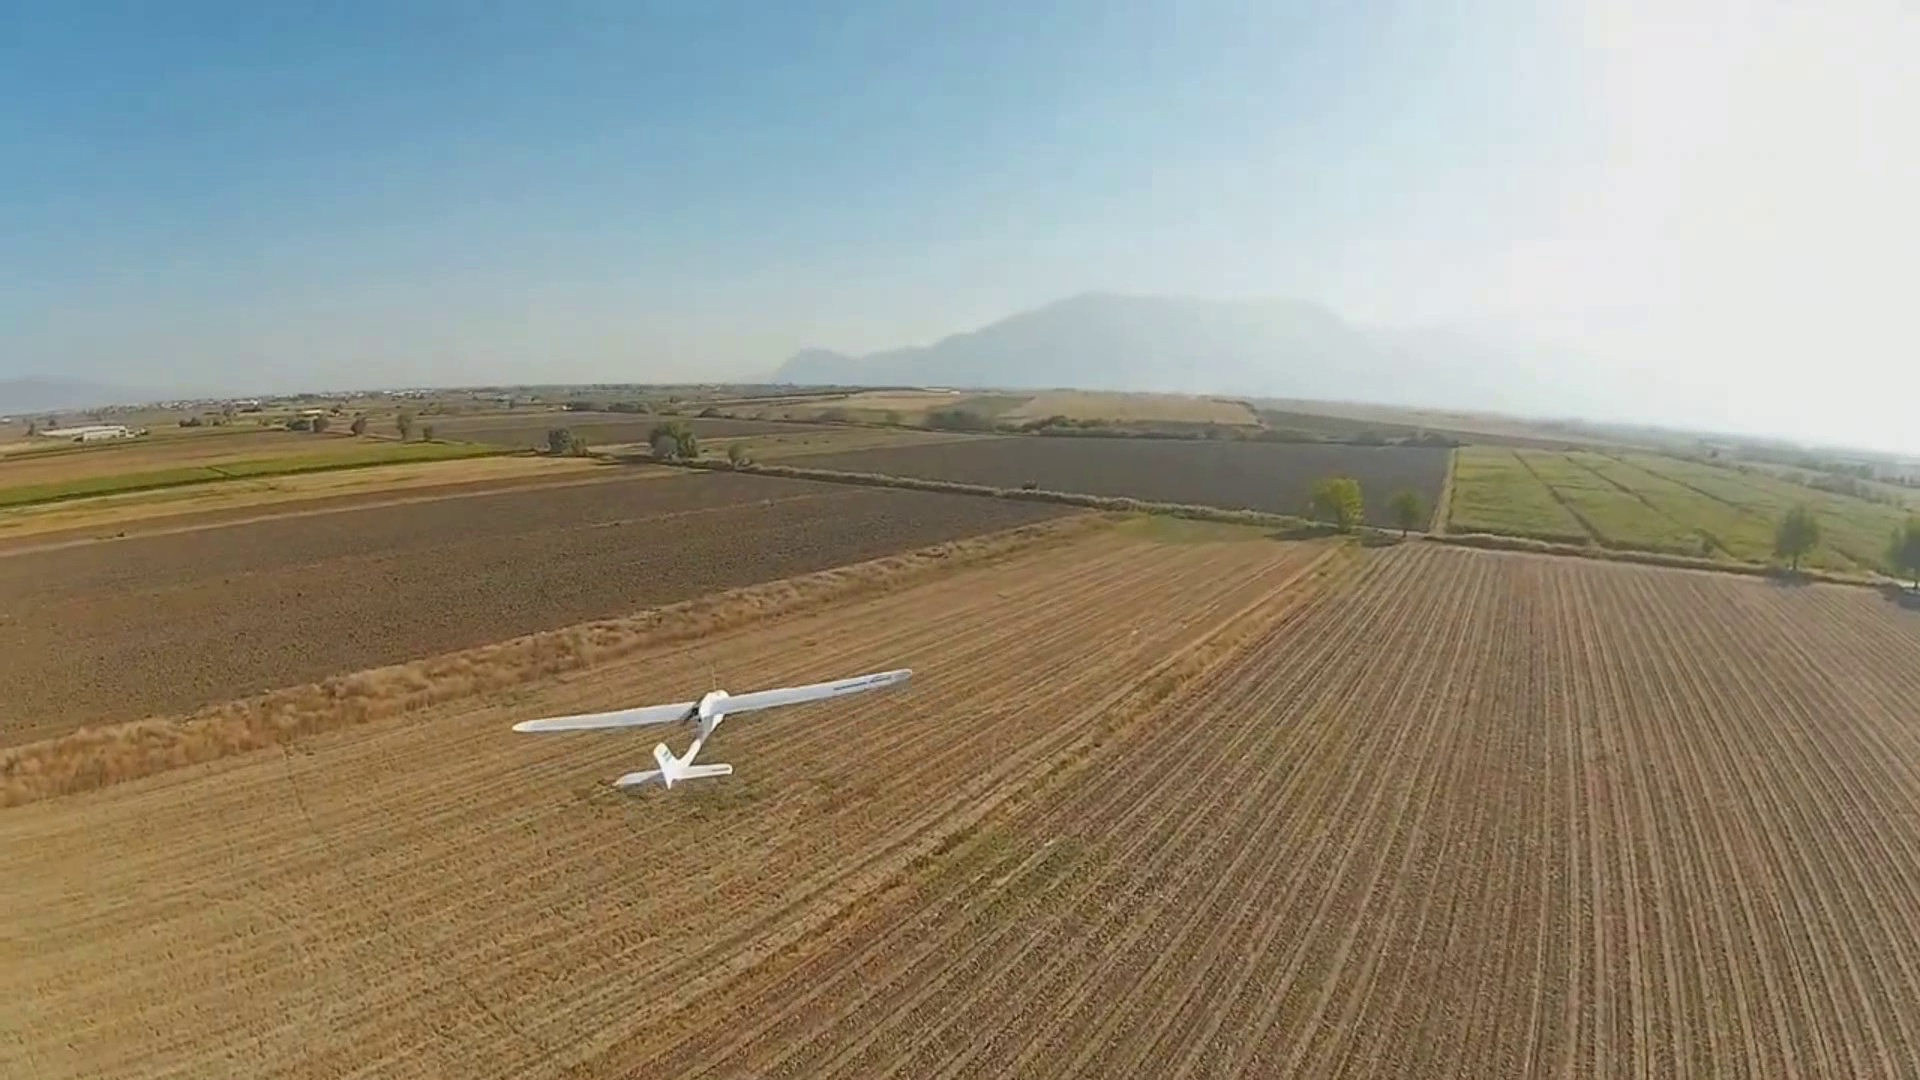airplane: (509, 673, 915, 796)
